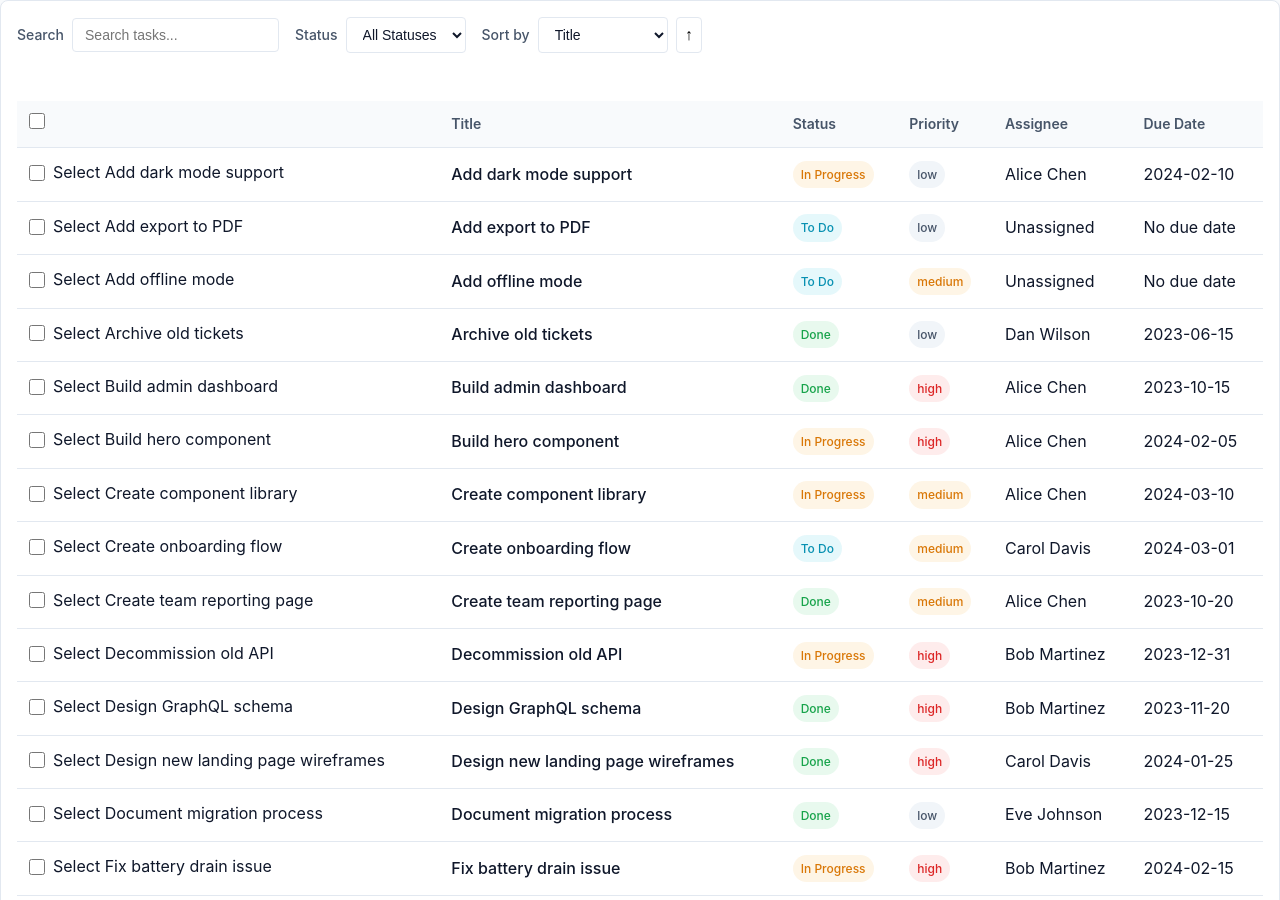
Test: TaskTable › selects and deselects individual tasks
Click the checkbox labelled "Select Add dark mode support" at point(37, 173), box [29, 165, 45, 181]
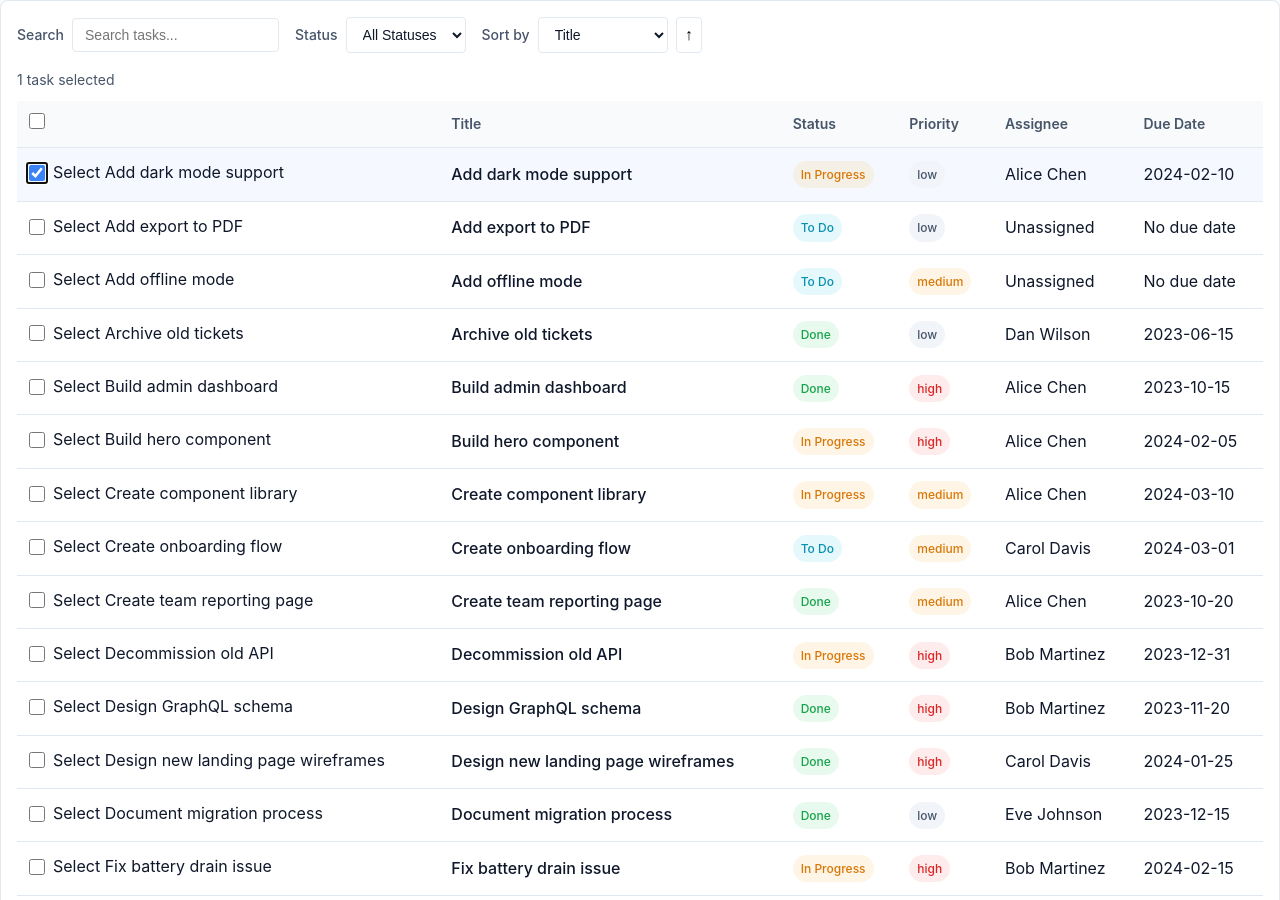
Check: the text "1 task selected" is shown, box [17, 71, 114, 88]
Click the checkbox labelled "Select Add dark mode support" at point(37, 173), box [29, 165, 45, 181]
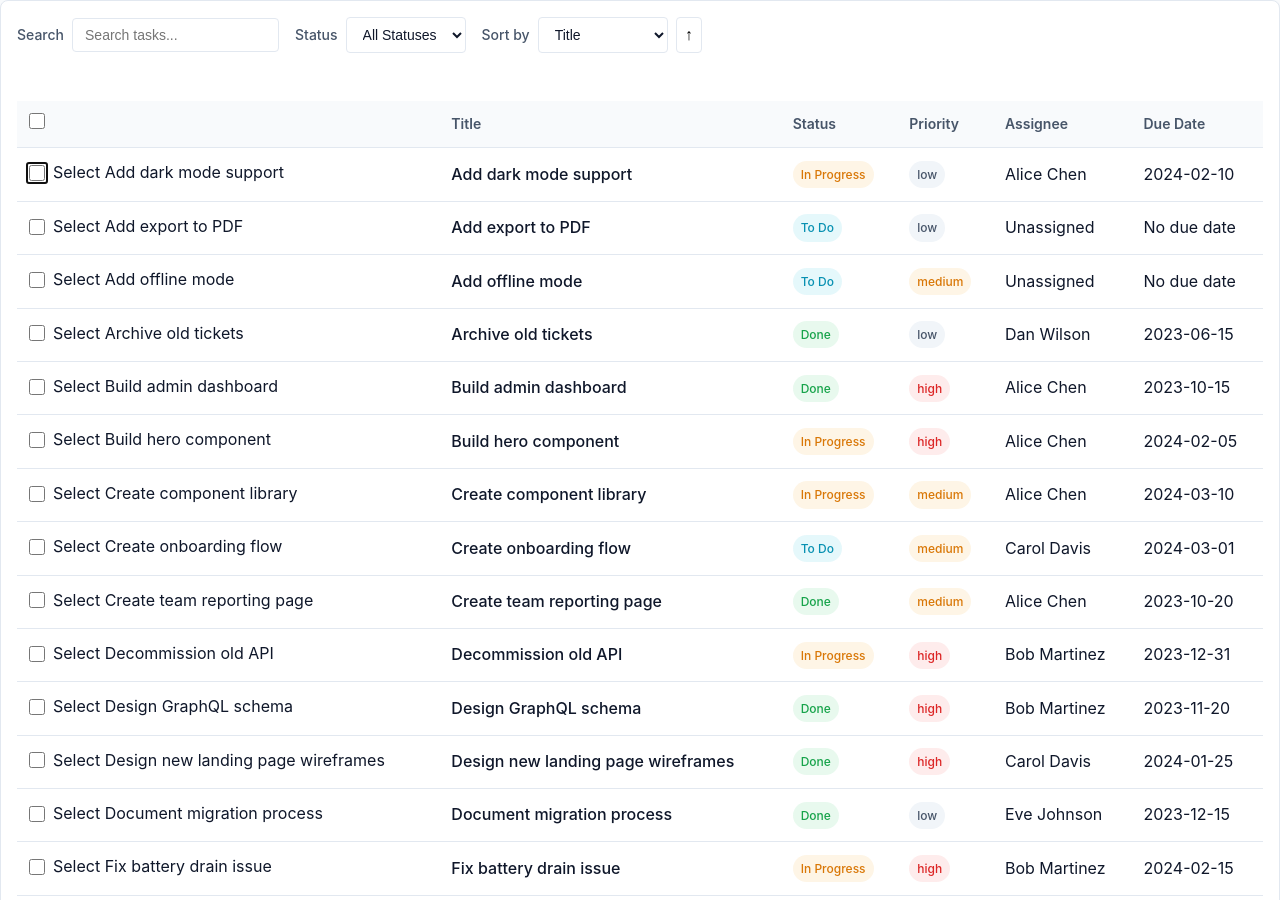
Check: the text "selected" is gone
